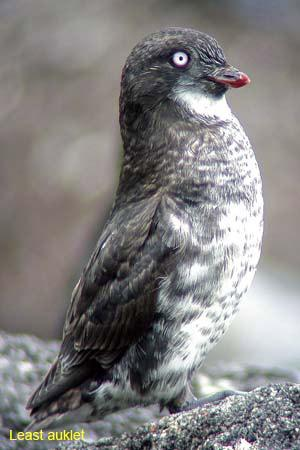006.Least_Auklet: (26, 27, 268, 423)
